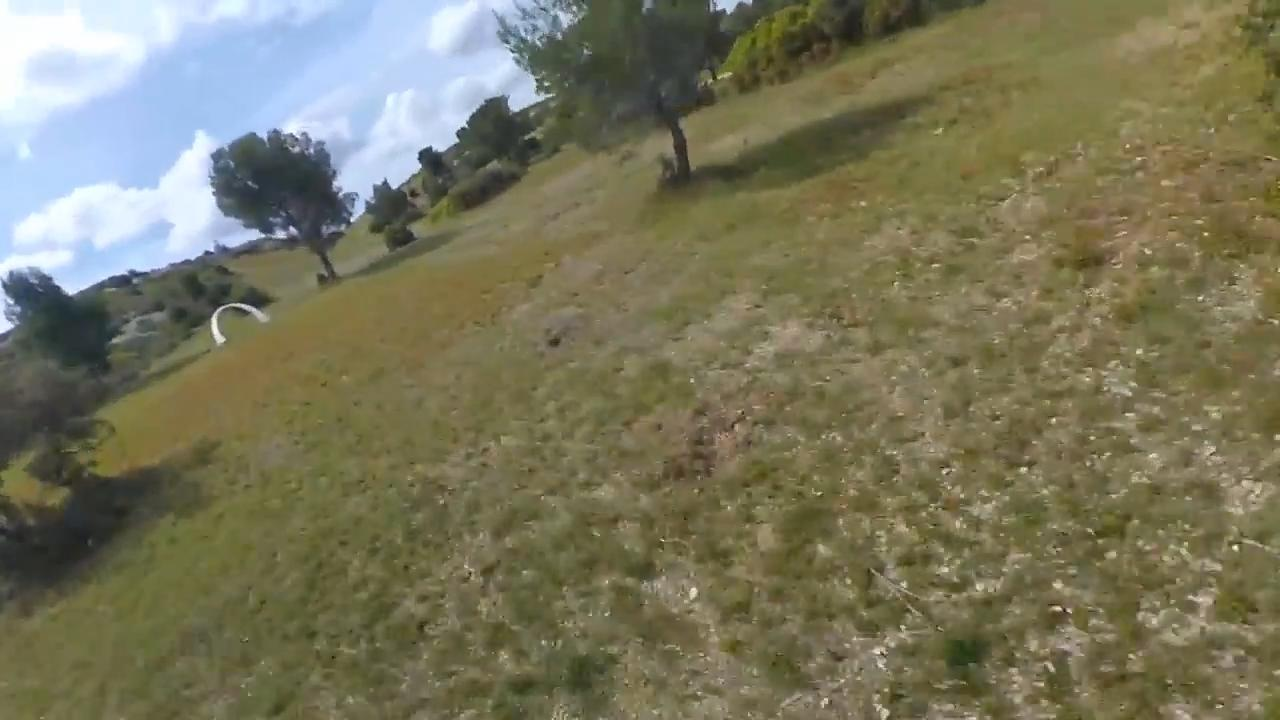gate: (208, 301, 271, 345)
